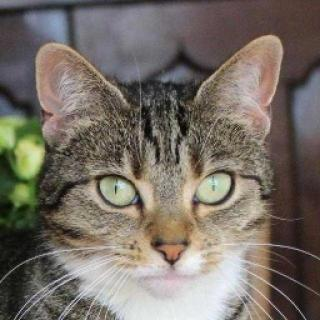cat: (31, 37, 289, 302)
nose: (143, 212, 196, 268)
